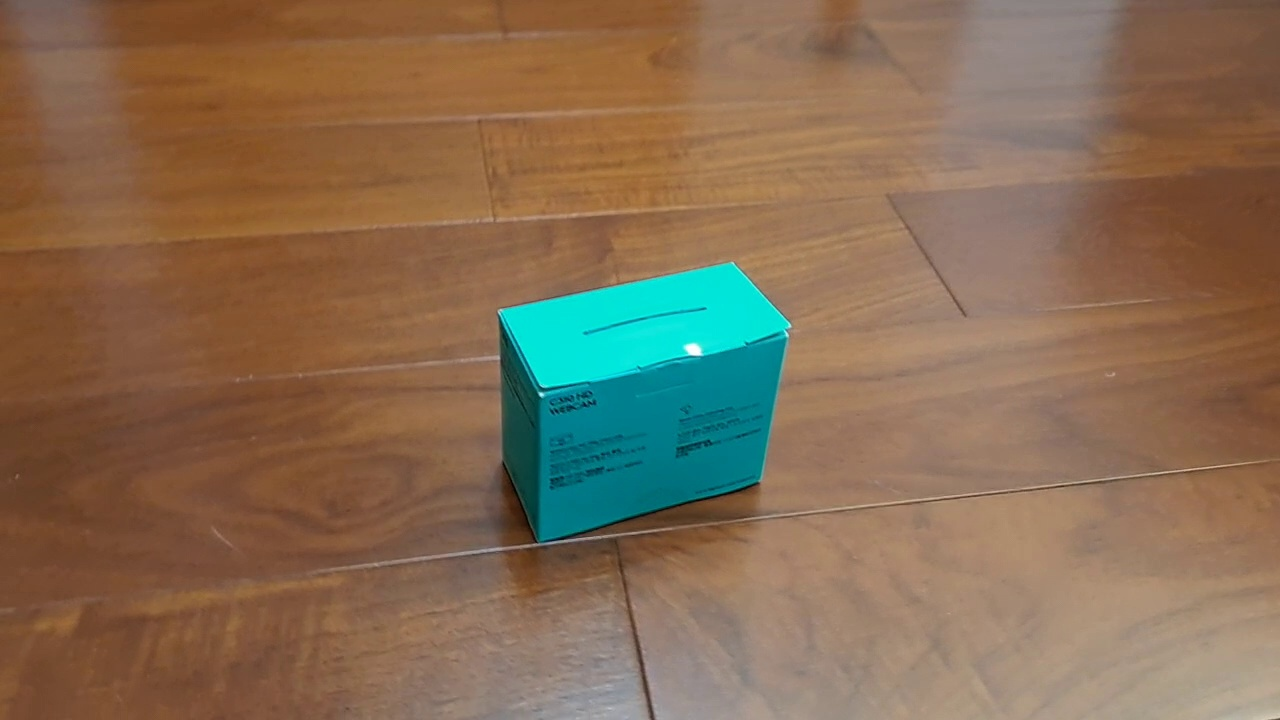webcam: (495, 258, 793, 546)
